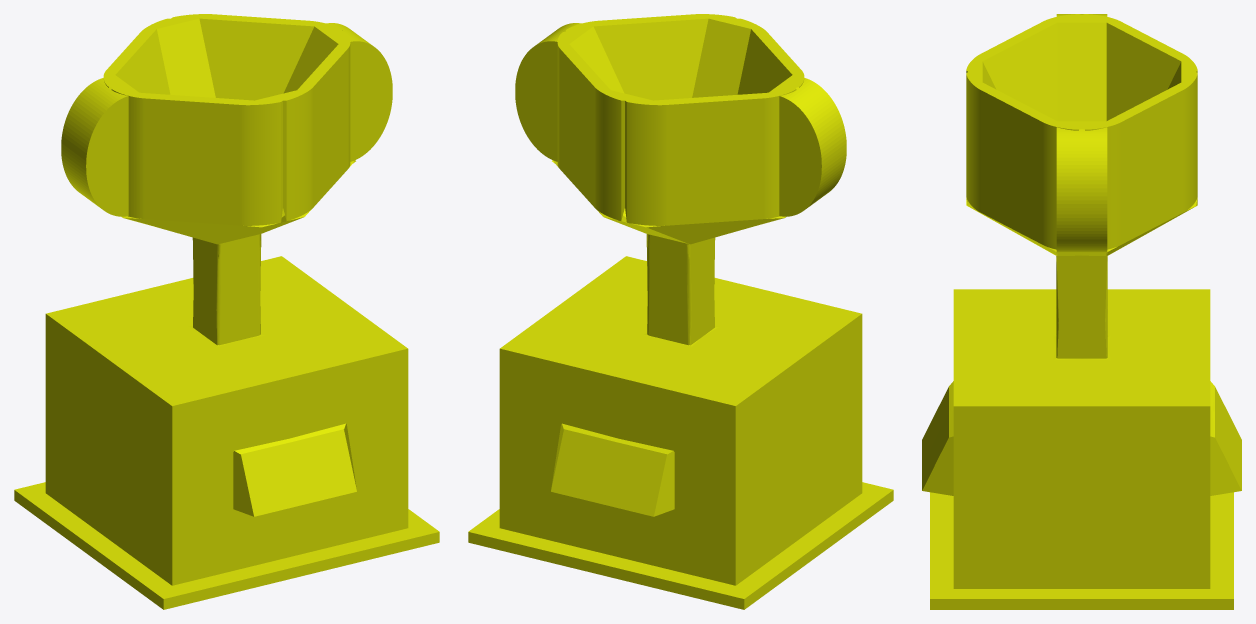
Rendered from trophyKEY.fbx.
The picture shows the model from 3 angles, left to right: view 1: azimuth 30°, elevation 25°; view 2: azimuth 150°, elevation 25°; view 3: azimuth 270°, elevation 25°; orthographic projection.
Parts seen in each view (by area): view 1: Cube; view 2: Cube; view 3: Cube.
Part boxes in pixels (bbox=[...]): Cube: bbox=[14, 14, 439, 609]; Cube: bbox=[468, 14, 893, 609]; Cube: bbox=[922, 14, 1241, 609].
Bounding box in the file's own units: 1422 × 2047 × 1264.
